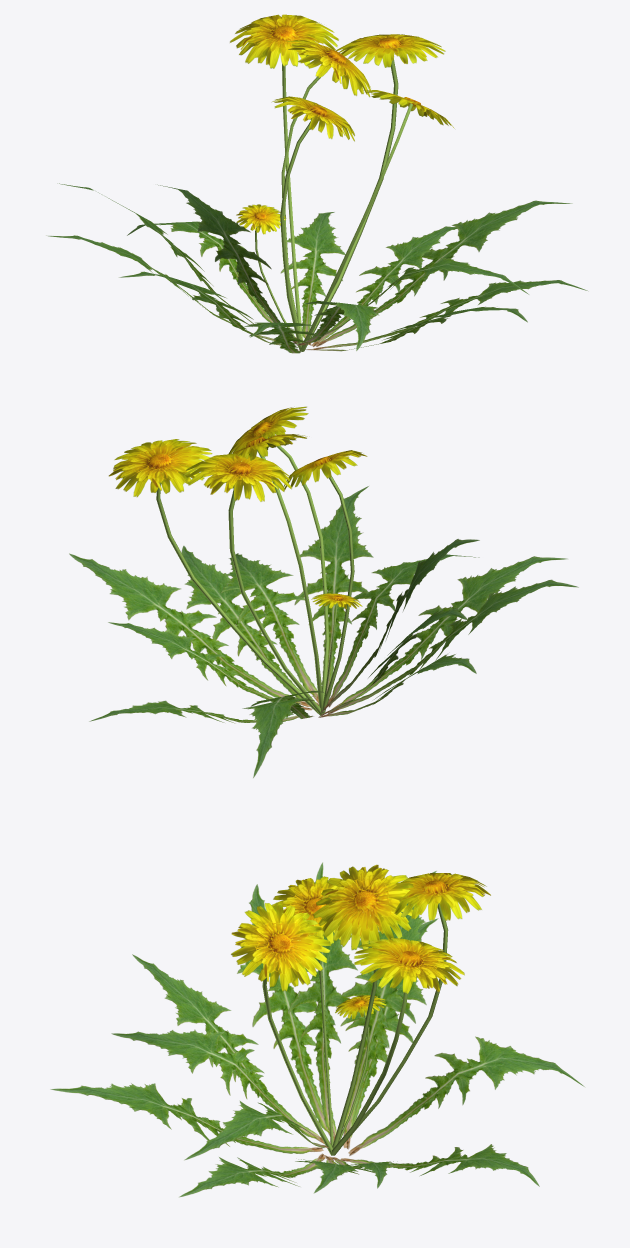
Rendered from foliage_flower_one.glb.
3 renders of one model, top to bottom at view 1: azimuth 30°, elevation 25°; view 2: azimuth 150°, elevation 25°; view 3: azimuth 270°, elevation 25°, orthographic. The views are drawn at different scales.
Parts seen in each view (by area): view 1: Object_3.053, Object_3.044, Object_3.051, Object_3.041, Object_3.055, Object_3.046, Object_3.057, Object_3.049, Object_3.052, Object_3.050, Object_3.045, Object_2.003 (+12 smaller); view 2: Object_3.044, Object_3.047, Object_3.055, Object_3.042, Object_3.043, Object_3.050, Object_3.053, Object_3.049, Object_3.039, Object_3.046, Object_3.045, Object_2.003 (+12 smaller); view 3: Object_3.056, Object_3.057, Object_3.045, Object_3.055, Object_3.049, Object_3.041, Object_3.039, Object_3.047, Object_3.040, Object_3.053, Object_3.043, Object_3.042 (+11 smaller).
Boxes of the visible parts, x1=… form: Object_3.053: x1=230, y1=14, x2=338, y2=68; Object_3.044: x1=315, y1=200, x2=572, y2=346; Object_3.051: x1=280, y1=212, x2=345, y2=345; Object_3.041: x1=158, y1=185, x2=297, y2=344; Object_3.055: x1=336, y1=34, x2=445, y2=67; Object_3.046: x1=311, y1=226, x2=457, y2=346; Object_3.057: x1=286, y1=40, x2=371, y2=97; Object_3.049: x1=296, y1=300, x2=384, y2=350; Object_3.052: x1=271, y1=96, x2=354, y2=141; Object_3.050: x1=313, y1=280, x2=588, y2=349; Object_3.045: x1=127, y1=221, x2=296, y2=338; Object_2.003: x1=303, y1=58, x2=398, y2=351; Object_3.044: x1=69, y1=553, x2=310, y2=706; Object_3.047: x1=294, y1=486, x2=373, y2=701; Object_3.055: x1=108, y1=439, x2=212, y2=496; Object_3.042: x1=220, y1=553, x2=318, y2=703; Object_3.043: x1=332, y1=556, x2=567, y2=712; Object_3.050: x1=181, y1=545, x2=318, y2=705; Object_3.053: x1=183, y1=453, x2=291, y2=501; Object_3.049: x1=327, y1=554, x2=479, y2=707; Object_3.039: x1=327, y1=579, x2=578, y2=714; Object_3.046: x1=108, y1=622, x2=312, y2=710; Object_3.045: x1=242, y1=690, x2=323, y2=777; Object_2.003: x1=156, y1=482, x2=320, y2=715; Object_3.056: x1=231, y1=902, x2=331, y2=991; Object_3.057: x1=313, y1=864, x2=417, y2=950; Object_3.045: x1=348, y1=1036, x2=584, y2=1155; Object_3.055: x1=354, y1=938, x2=464, y2=994; Object_3.049: x1=111, y1=1029, x2=330, y2=1143; Object_3.041: x1=287, y1=862, x2=357, y2=1141; Object_3.039: x1=237, y1=884, x2=329, y2=1135; Object_3.047: x1=50, y1=1083, x2=323, y2=1153; Object_3.040: x1=341, y1=871, x2=436, y2=1147; Object_3.053: x1=394, y1=873, x2=490, y2=920; Object_3.043: x1=132, y1=954, x2=330, y2=1144; Object_3.042: x1=184, y1=1100, x2=328, y2=1160.
Bounding box in the file's own units: 3.76 × 1.95 × 3.51.
2 materials, 1 textured.
